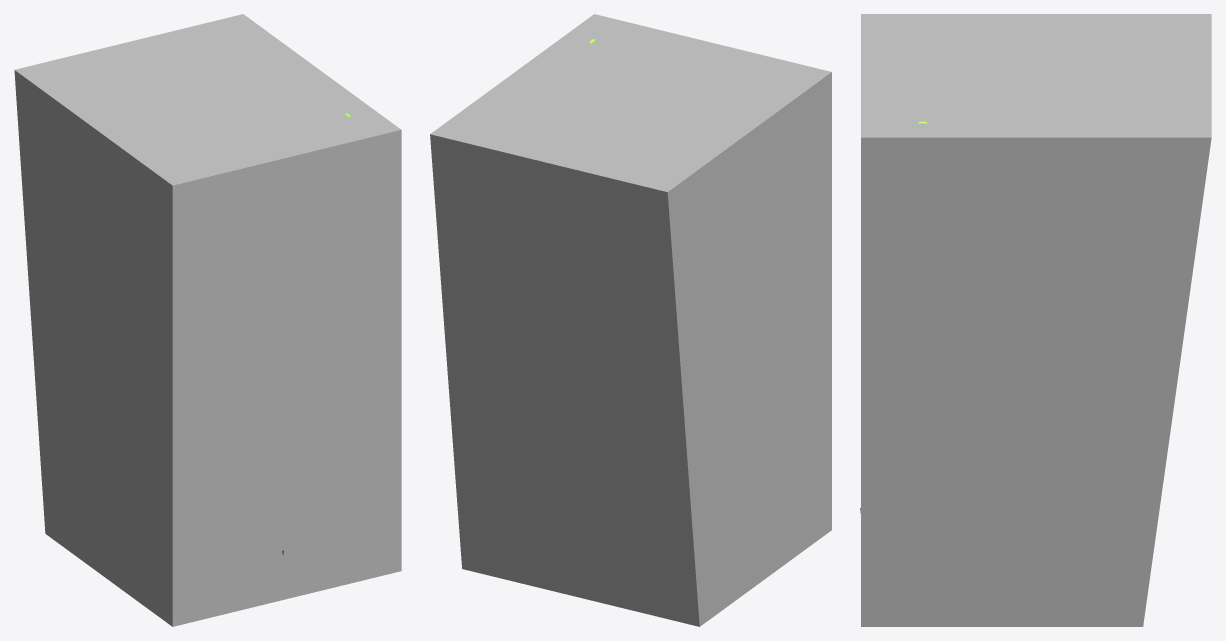
The model's file is SM_Flower_Pot_02.fbx.
3 renders of one model, left to right at view 1: azimuth 30°, elevation 25°; view 2: azimuth 150°, elevation 25°; view 3: azimuth 270°, elevation 25°, orthographic. The views are drawn at different scales.
Parts seen in each view (by area): view 1: SM_Flower_Pot_02_ConvexHulls; view 2: SM_Flower_Pot_02_ConvexHulls; view 3: SM_Flower_Pot_02_ConvexHulls.
Part boxes in pixels (x1,y1,x2,y2): SM_Flower_Pot_02_ConvexHulls: [14, 14, 401, 626]; SM_Flower_Pot_02_ConvexHulls: [430, 14, 831, 626]; SM_Flower_Pot_02_ConvexHulls: [861, 14, 1211, 626].
Size of the model in its own units: 54.27 by 65.08 by 100.
